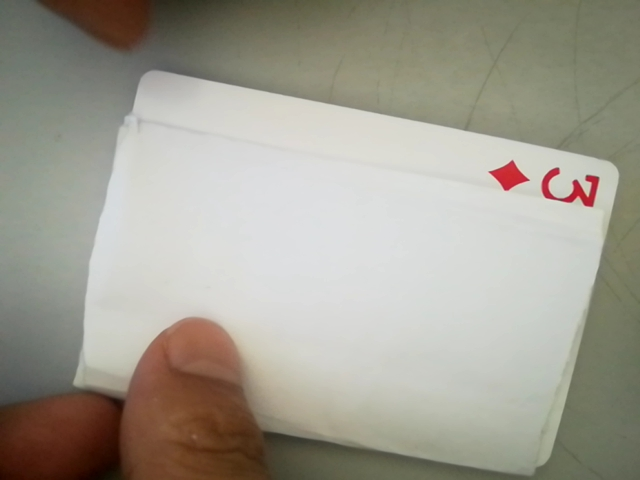fk 3: (509, 159, 608, 210)
